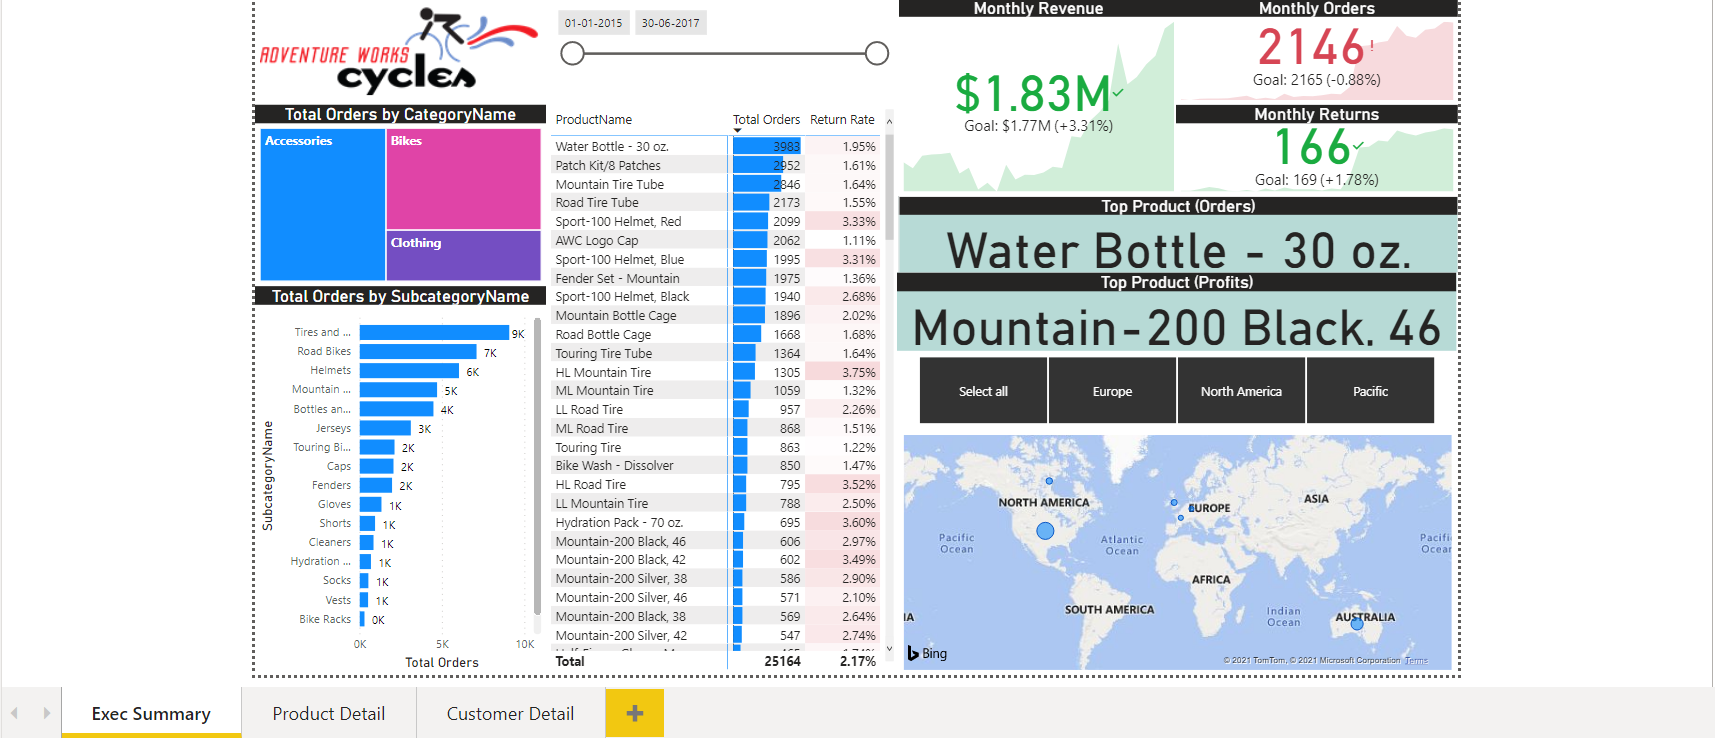

This screenshot's page, from the dashboard's own definition file:
{"tool":"powerbi","page":{"name":"Exec Summary","canvas":[1280,720],"ordinal":0},"visuals":[{"type":"image","box":[0,0,309.7,113.3],"z":0},{"type":"barChart","title":"Total Orders by SubcategoryName","fields":{"Y":["AW_Sales.Total Orders"],"Category":["AW_Product_Subcategory_Lookup.SubcategoryName"]},"box":[0,306.5,309.7,413.5],"z":1000},{"type":"treemap","title":"Total Orders by CategoryName","fields":{"Group":["AW_Product_Category_Lookup.CategoryName","AW_Product_Subcategory_Lookup.SubcategoryName"],"Values":["AW_Sales.Total Orders"]},"box":[0,113.3,309.7,193.2],"z":2000},{"type":"pivotTable","fields":{"Values":["AW_Sales.Total Orders","AW_Returns.Return Rate"],"Rows":["AW_Product_Category_Lookup.CategoryName","AW_Product_Subcategory_Lookup.SubcategoryName","AW_Product_Lookup.ProductName"]},"box":[309.7,113.3,375.2,606.7],"z":3000},{"type":"slicer","fields":{"Values":["AW_Calendar_Lookup.Date"]},"box":[309.7,3.2,373.6,97.4],"z":4000},{"type":"kpi","title":"Monthly Revenue","fields":{"Indicator":["AW_Sales.Total Revenue"],"Goal":["AW_Sales.Prev Month Revenue"],"TrendLine":["AW_Calendar_Lookup.Start of Month"]},"box":[684.9,0,298.5,210.7],"z":5000},{"type":"kpi","title":"Monthly Returns","fields":{"TrendLine":["AW_Calendar_Lookup.Start of Month"],"Indicator":["AW_Returns.Total Returns"],"Goal":["AW_Returns.Prev Month Returns"]},"box":[980.2,113.3,300.1,97.4],"z":6000},{"type":"kpi","title":"Monthly Orders","fields":{"TrendLine":["AW_Calendar_Lookup.Start of Month"],"Indicator":["AW_Sales.Total Orders"],"Goal":["AW_Sales.Prev Month Orders"]},"box":[980.2,0,300.1,113.3],"z":7000},{"type":"card","title":"Top Product (Orders)","fields":{"Values":["Min(AW_Product_Lookup.ProductName)"]},"box":[684.9,210.7,595.5,81.4],"z":8000},{"type":"card","title":"Top Product (Profits)","fields":{"Values":["Min(AW_Product_Lookup.ProductName)"]},"box":[683.3,292.2,595.5,83],"z":9000},{"type":"map","fields":{"Category":["AW_Territories_Lookup.Country"],"Size":["AW_Sales.Total Orders"]},"box":[684.9,459.8,593.9,260.2],"z":10000},{"type":"slicer","fields":{"Values":["AW_Territories_Lookup.Continent"]},"box":[681.7,375.2,597.1,84.6],"z":11000}]}

Visuals, with their boxes on the page's 1280x720 design canvas (x1, y1, x2, y2). These are canvas units, not pixel positions in the 1715x738 screenshot, which may show the page scaled, cropped or inside an application window:
image: bbox=(0, 0, 310, 113)
"Total Orders by SubcategoryName" barChart: bbox=(0, 306, 310, 720)
"Total Orders by CategoryName" treemap: bbox=(0, 113, 310, 306)
pivotTable - AW_Sales.Total Orders x AW_Returns.Return Rate: bbox=(310, 113, 685, 720)
slicer - AW_Calendar_Lookup.Date: bbox=(310, 3, 683, 101)
"Monthly Revenue" kpi: bbox=(685, 0, 983, 211)
"Monthly Returns" kpi: bbox=(980, 113, 1280, 211)
"Monthly Orders" kpi: bbox=(980, 0, 1280, 113)
"Top Product (Orders)" card: bbox=(685, 211, 1280, 292)
"Top Product (Profits)" card: bbox=(683, 292, 1279, 375)
map - AW_Territories_Lookup.Country x AW_Sales.Total Orders: bbox=(685, 460, 1279, 720)
slicer - AW_Territories_Lookup.Continent: bbox=(682, 375, 1279, 460)
